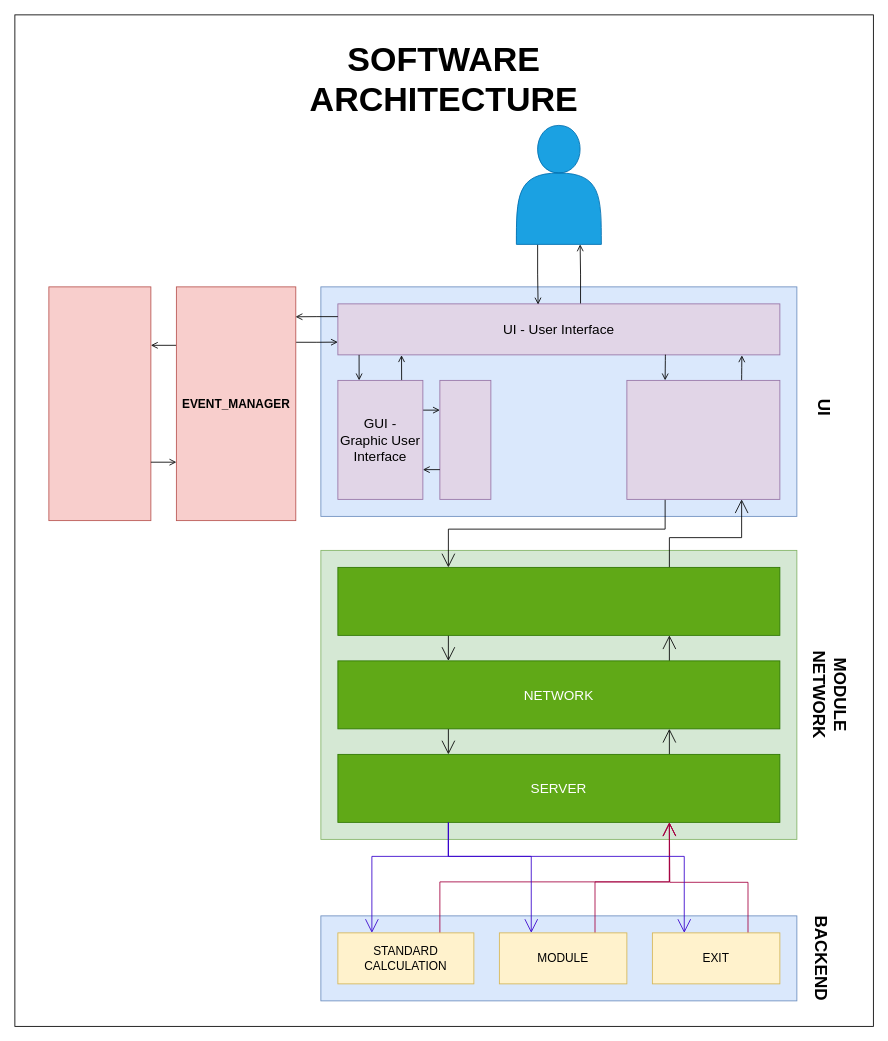
This 888x1041 diagram has some shape labels left out. The shapes that lost their labels are listed below. From the top down, each one's centre as x and y in pixels, then its label:
point (99, 403): APP_MANAGER
point (465, 439): Raygui
point (703, 439): CUI - Console User Interface
point (558, 601): CLIENT
